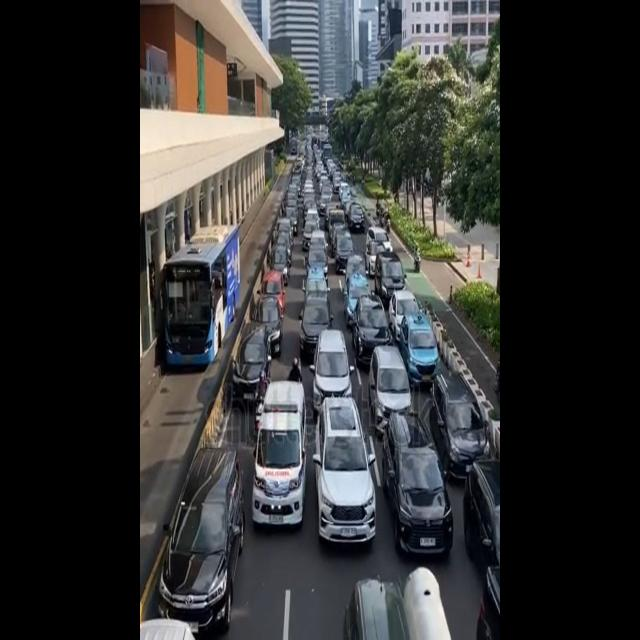Ambulance: (249, 371, 309, 532)
